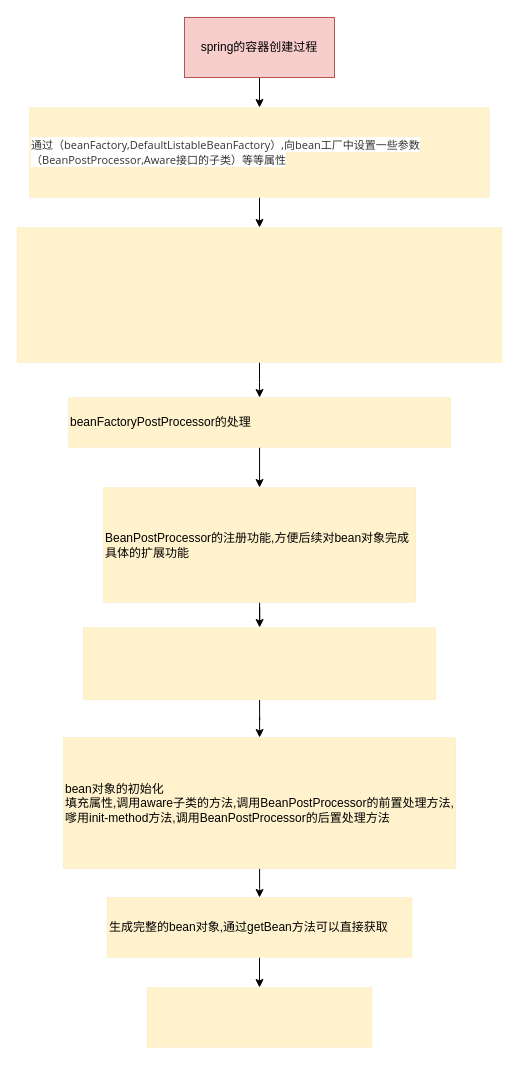
Image size: 519x1065. Some labels were removed from this diagram. Each missing label, with the box of its shape:
x销毁过程: (146, 987, 372, 1047)
加载bean对象,创建定义对象beanDefinition用于创建bean对象(xml或者注解的解析过程): (16, 227, 502, 362)
通过反射的方式将BeanDefinition对象实例化成具体的bean对象: (83, 627, 435, 700)
